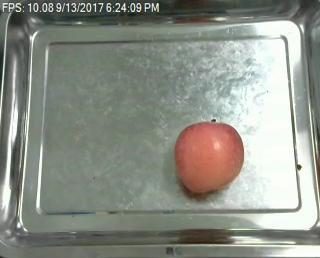apple: (173, 120, 244, 193)
